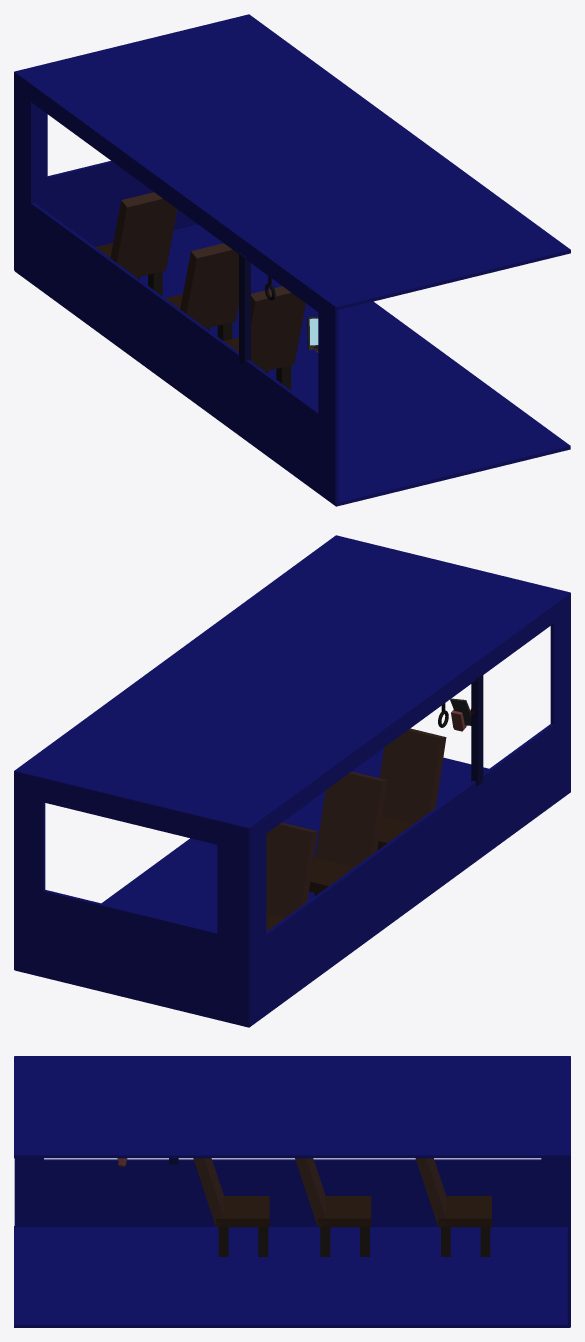
Rendered from bus.obj.
The picture shows the model from 3 angles, top to bottom: view 1: azimuth 30°, elevation 25°; view 2: azimuth 150°, elevation 25°; view 3: azimuth 270°, elevation 25°; orthographic projection. The views are drawn at different scales.
Parts seen in each view (by area): view 1: 큐브.001, Cube, 큐브.027_큐브.008, 큐브.008_큐브.004, 큐브.022_큐브.023, 큐브.019_큐브.020, 큐브.010_큐브.011, 큐브.007_큐브.009; view 2: 큐브.001, Cube, 큐브.008_큐브.004, 큐브.027_큐브.008, 큐브.019_큐브.020, 큐브.010_큐브.011, 큐브.022_큐브.023, 큐브.007_큐브.009, 큐브.020_큐브.021; view 3: 큐브.001, 큐브.027_큐브.008, Cube, 큐브.020_큐브.021, 큐브.009_큐브.010, 큐브.021_큐브.022, 큐브.022_큐브.023, 큐브.019_큐브.020, 큐브.010_큐브.011, 큐브.008_큐브.004.
Part boxes in pixels (bbox=[...]): 큐브.001: bbox=[18, 14, 570, 310]; Cube: bbox=[14, 71, 338, 505]; 큐브.027_큐브.008: bbox=[15, 224, 570, 506]; 큐브.008_큐브.004: bbox=[17, 14, 248, 246]; 큐브.022_큐브.023: bbox=[110, 192, 177, 276]; 큐브.019_큐브.020: bbox=[180, 243, 238, 327]; 큐브.010_큐브.011: bbox=[251, 286, 305, 370]; 큐브.007_큐브.009: bbox=[239, 253, 250, 365]; 큐브.001: bbox=[14, 535, 570, 827]; Cube: bbox=[246, 592, 570, 1026]; 큐브.008_큐브.004: bbox=[14, 771, 248, 1026]; 큐브.027_큐브.008: bbox=[15, 748, 570, 1027]; 큐브.019_큐브.020: bbox=[315, 771, 387, 866]; 큐브.010_큐브.011: bbox=[379, 728, 446, 823]; 큐브.022_큐브.023: bbox=[266, 822, 317, 917]; 큐브.007_큐브.009: bbox=[471, 674, 483, 785]; 큐브.020_큐브.021: bbox=[309, 857, 354, 893]; 큐브.001: bbox=[14, 1056, 570, 1158]; 큐브.027_큐브.008: bbox=[14, 1226, 570, 1327]; Cube: bbox=[14, 1056, 570, 1226]; 큐브.020_큐브.021: bbox=[317, 1196, 371, 1227]; 큐브.009_큐브.010: bbox=[216, 1196, 269, 1227]; 큐브.021_큐브.022: bbox=[438, 1196, 491, 1227]; 큐브.022_큐브.023: bbox=[415, 1158, 447, 1226]; 큐브.019_큐브.020: bbox=[295, 1158, 326, 1226]; 큐브.010_큐브.011: bbox=[193, 1158, 224, 1226]; 큐브.008_큐브.004: bbox=[567, 1056, 570, 1327].
Size of the model in its own units: 11.29 by 9.1 by 26.6.
